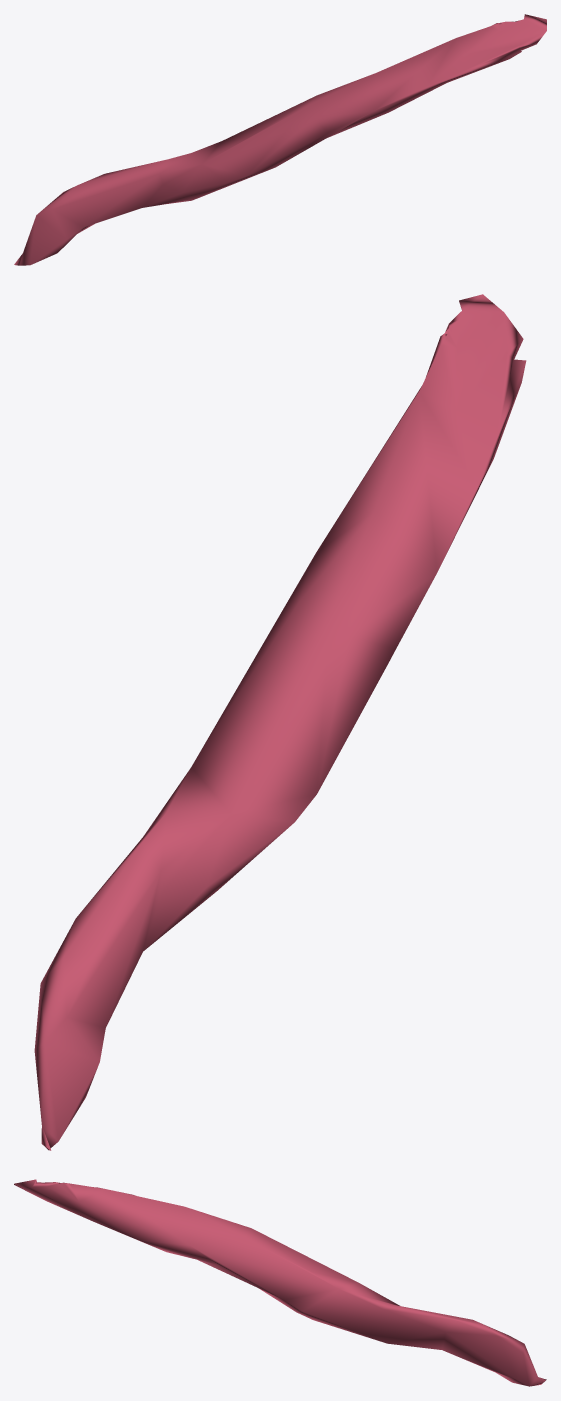
3 renders of one model, top to bottom at view 1: azimuth 90°, elevation 25°; view 2: azimuth 150°, elevation 25°; view 3: azimuth 270°, elevation 25°, orthographic. The views are drawn at different scales.
Parts seen in each view (by area): view 1: 左侧骨间掌侧肌; view 2: 左侧骨间掌侧肌; view 3: 左侧骨间掌侧肌.
Boxes of the visible parts, x1,y1,x2,y2 form: 左侧骨间掌侧肌: (14,14,546,265); 左侧骨间掌侧肌: (34,294,526,1150); 左侧骨间掌侧肌: (14,1179,546,1386).
Bounding box in the file's own units: 0.00834 × 0.0266 × 0.0563.
